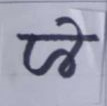i_matra: (60, 16, 82, 79)
